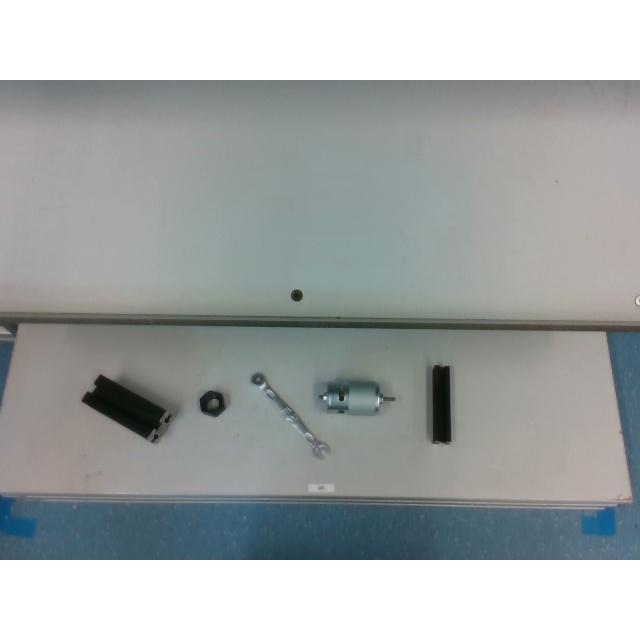F20_20_B: (432, 364, 452, 444)
M20: (199, 392, 225, 416)
Motor2: (318, 380, 394, 416)
S40_40_B: (81, 374, 170, 442)
Wrench: (250, 372, 330, 458)
